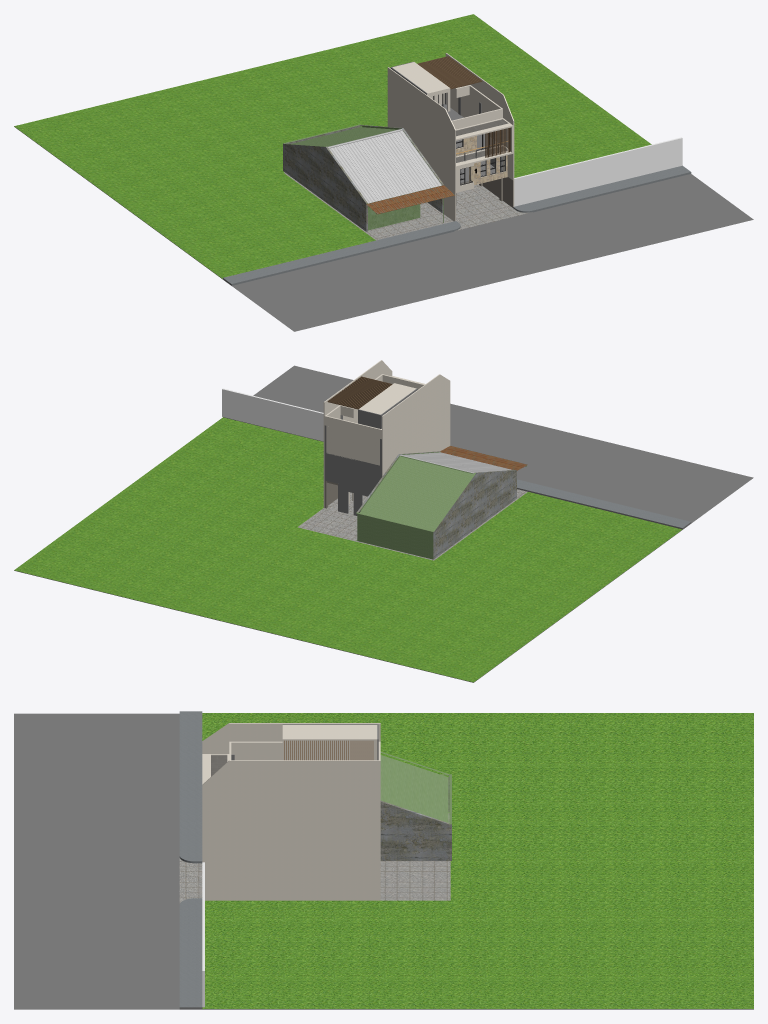
3 views of the same model, one above another, from view 1: azimuth 30°, elevation 25°; view 2: azimuth 150°, elevation 25°; view 3: azimuth 270°, elevation 25° (orthographic). The views are drawn at different scales.
Visible parts, largest first — view 1: road, Component#12, Component#24; view 2: road, Component#12, Component#24; view 3: road, Component#24, Component#12.
Part boxes in pixels (x1,y1,x2,y2): road: (14,14,753,331); Component#12: (283,124,454,231); Component#24: (387,53,514,221); road: (14,365,753,682); Component#12: (356,446,527,559); Component#24: (323,360,450,515); road: (14,711,753,1009); Component#24: (202,723,380,900); Component#12: (380,752,451,860).
Size of the model in its own units: 52.27 by 11.55 by 55.2.
21 materials, 13 textured.
